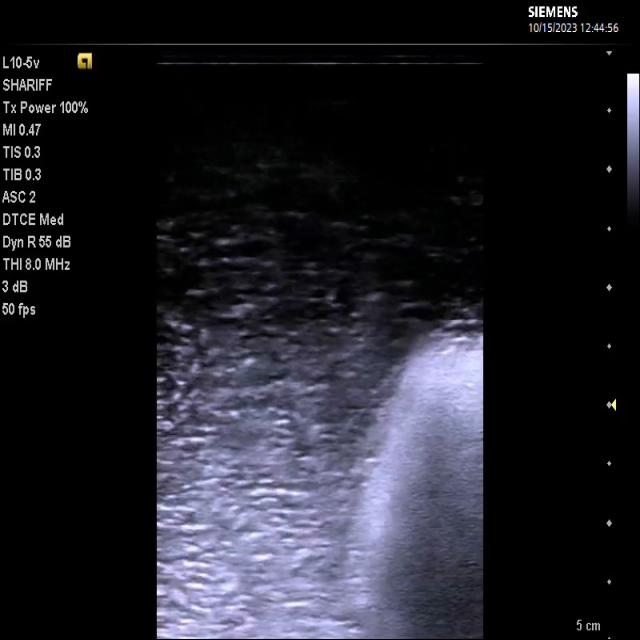tissue: (332, 319, 484, 637)
